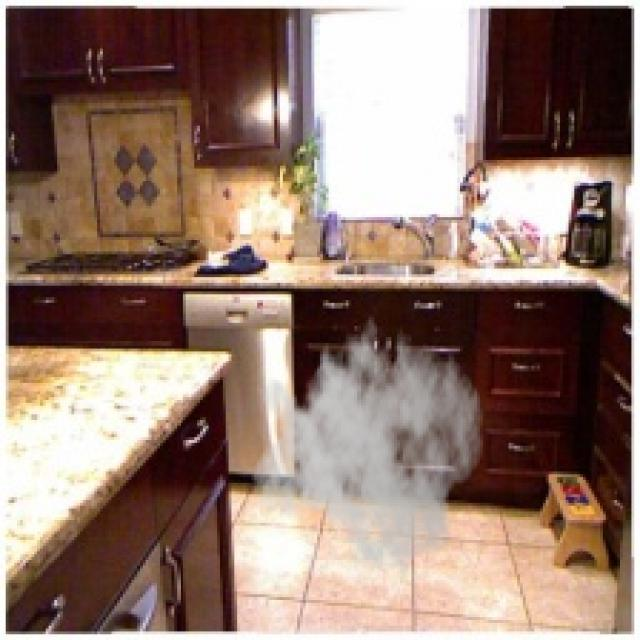smoke: (251, 300, 486, 580)
